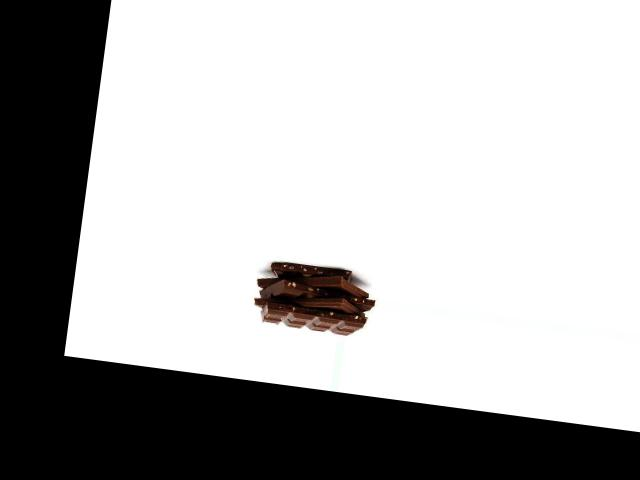chocolate: (257, 252, 372, 311)
